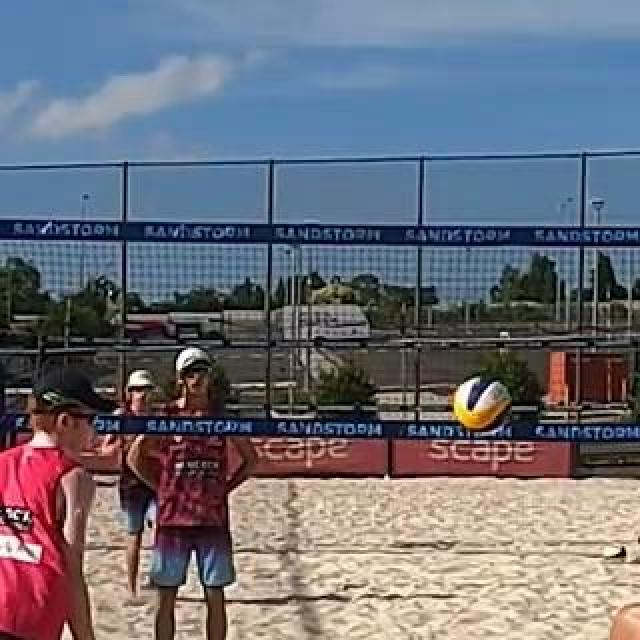volleyball: (455, 377, 513, 431), (604, 544, 626, 568)
